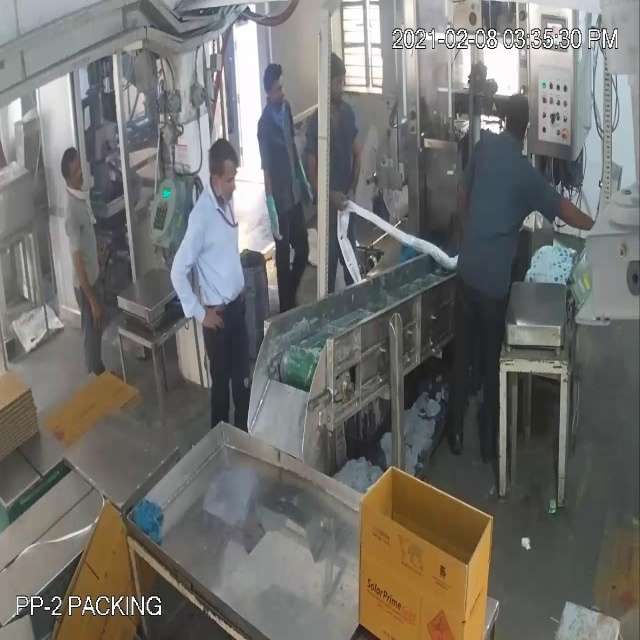Guantes: (242, 147, 286, 262), (287, 141, 319, 216)
Sin_guantes: (167, 229, 227, 346), (58, 232, 105, 342), (306, 142, 347, 221), (555, 181, 604, 244), (348, 124, 363, 211)
